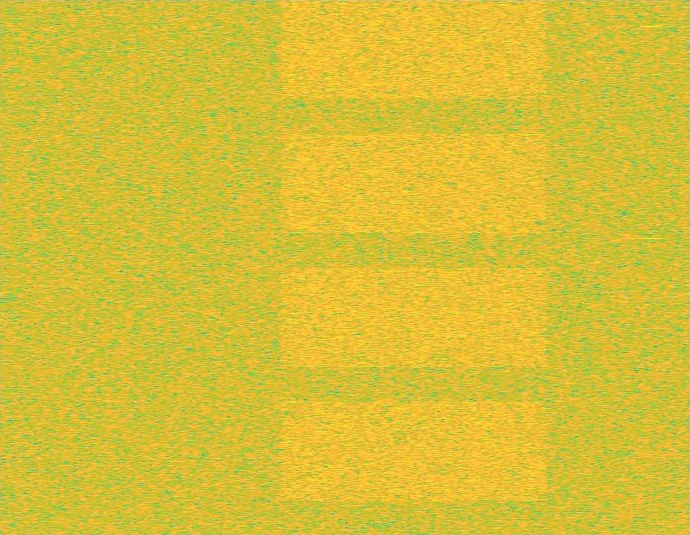5G: (276, 0, 552, 534)
Radar: (644, 0, 658, 534)
